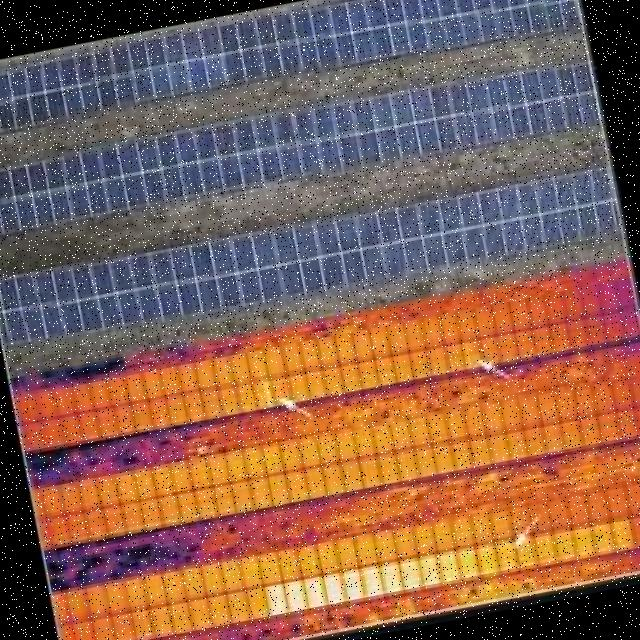Hotspot: (398, 556, 428, 594), (302, 573, 331, 612), (377, 558, 406, 597), (262, 580, 288, 620), (358, 562, 384, 601), (282, 576, 310, 612), (321, 570, 347, 606), (434, 550, 462, 583), (341, 566, 366, 602), (420, 554, 442, 589), (262, 382, 274, 408)
